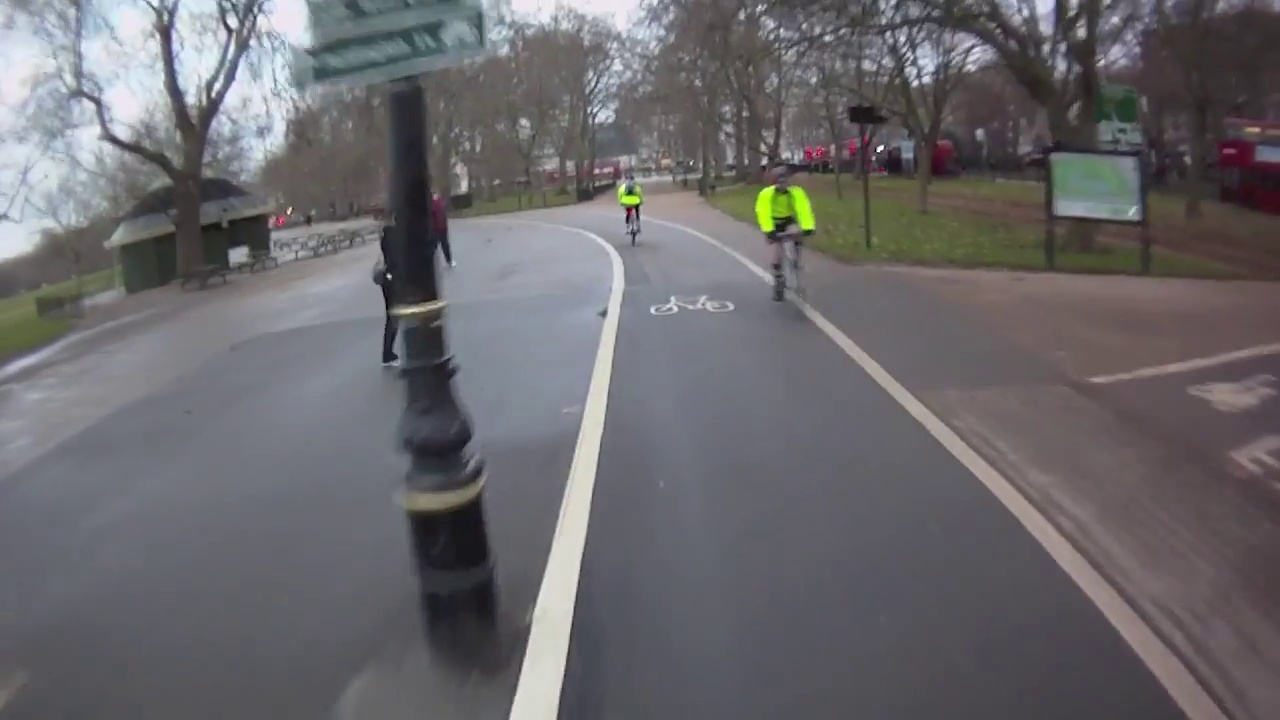cyclist_back: (615, 165, 652, 255)
cyclist_front: (762, 161, 820, 319)
